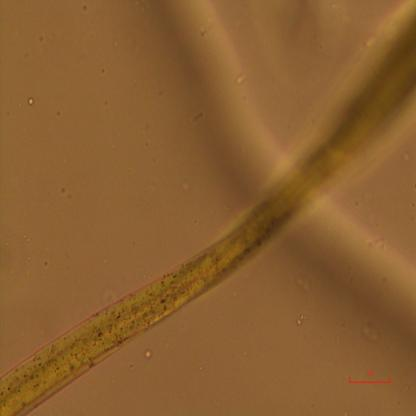Background material: (154, 9, 272, 193), (297, 221, 416, 363), (308, 6, 347, 56), (140, 347, 155, 362), (28, 96, 35, 107), (62, 188, 71, 196)
Microfibre: (0, 8, 416, 416)
